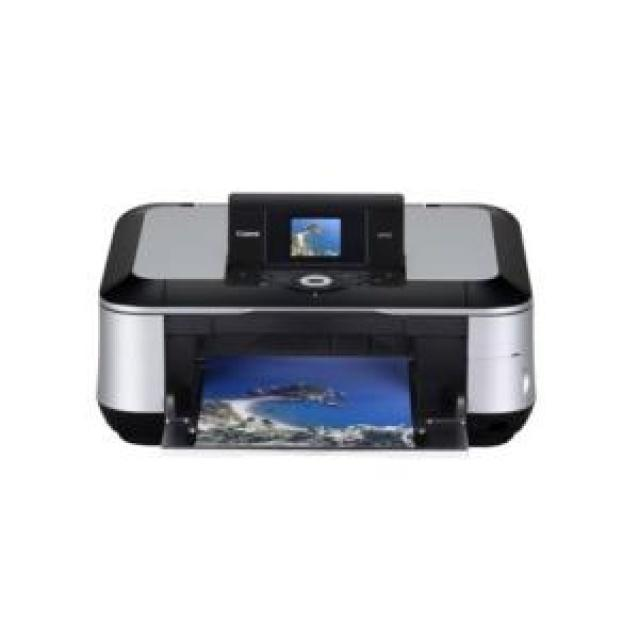Printer: (94, 191, 535, 451)
